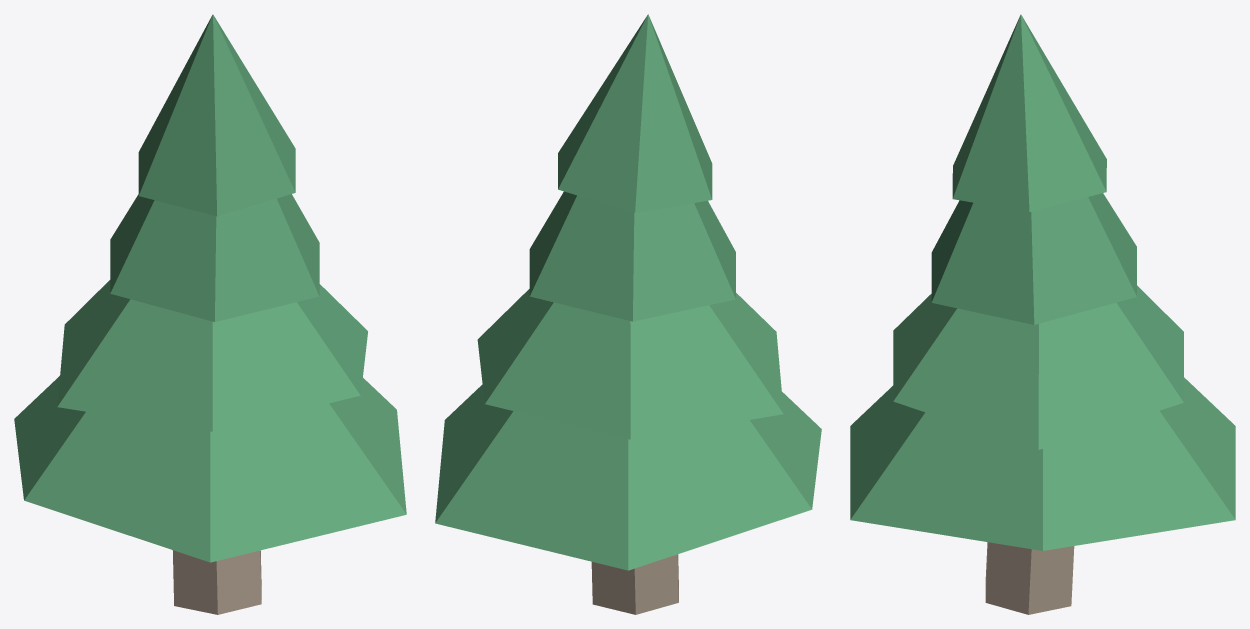
The model's file is Hilly_Prop_Tree_Pine_1.glb.
3 views of the same model, side by side, from view 1: azimuth 30°, elevation 25°; view 2: azimuth 150°, elevation 25°; view 3: azimuth 270°, elevation 25° (orthographic).
Parts seen in each view (by area): view 1: Hilly_Prop_Tree_Pine_1; view 2: Hilly_Prop_Tree_Pine_1; view 3: Hilly_Prop_Tree_Pine_1.
Part boxes in pixels (left/top/right/bottom): Hilly_Prop_Tree_Pine_1: left=14, top=14, right=406, bottom=614; Hilly_Prop_Tree_Pine_1: left=435, top=14, right=821, bottom=614; Hilly_Prop_Tree_Pine_1: left=850, top=14, right=1235, bottom=614.
Size of the model in its own units: 2.38 by 3.58 by 2.17.
